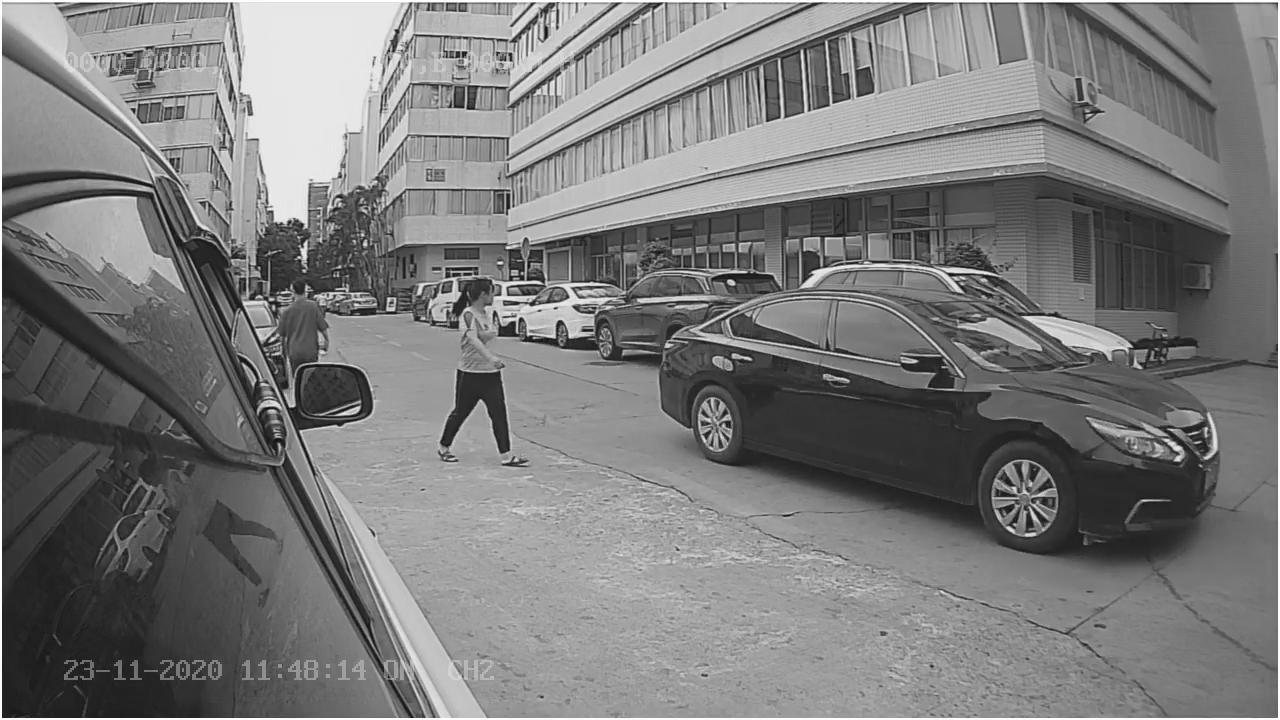person: (434, 275, 532, 475)
